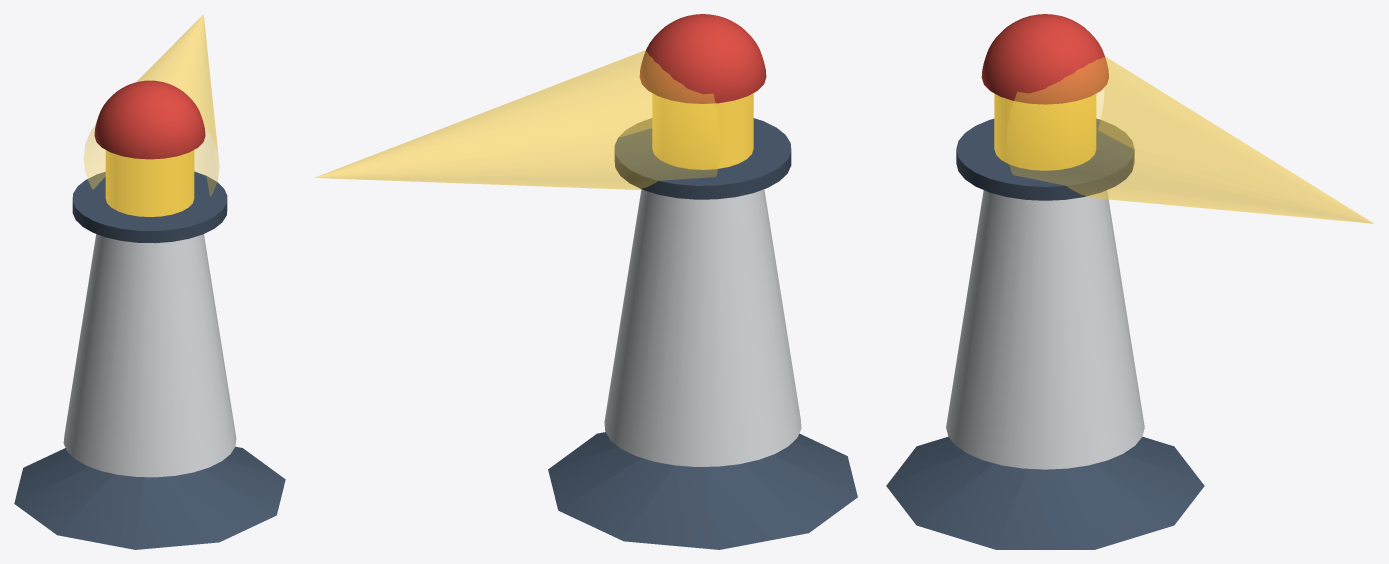
Rendered from watchtower-lighthouse.glb.
3 views of the same model, side by side, from view 1: azimuth 30°, elevation 25°; view 2: azimuth 150°, elevation 25°; view 3: azimuth 270°, elevation 25° (orthographic). The views are drawn at different scales.
Parts seen in each view (by area): view 1: tower-lighthouse, searchlight; view 2: tower-lighthouse, searchlight; view 3: tower-lighthouse, searchlight.
Boxes of the visible parts, left/top/right/bottom form: tower-lighthouse: left=14, top=80, right=285, bottom=549; searchlight: left=84, top=14, right=219, bottom=196; tower-lighthouse: left=548, top=14, right=857, bottom=549; searchlight: left=315, top=50, right=719, bottom=190; tower-lighthouse: left=886, top=14, right=1204, bottom=549; searchlight: left=1006, top=56, right=1373, bottom=223.
Size of the model in its own units: 3.24 by 4.04 by 3.83.
